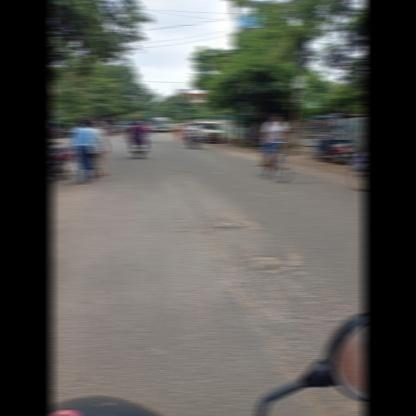Bicycle: (254, 138, 299, 190), (118, 134, 156, 160)
